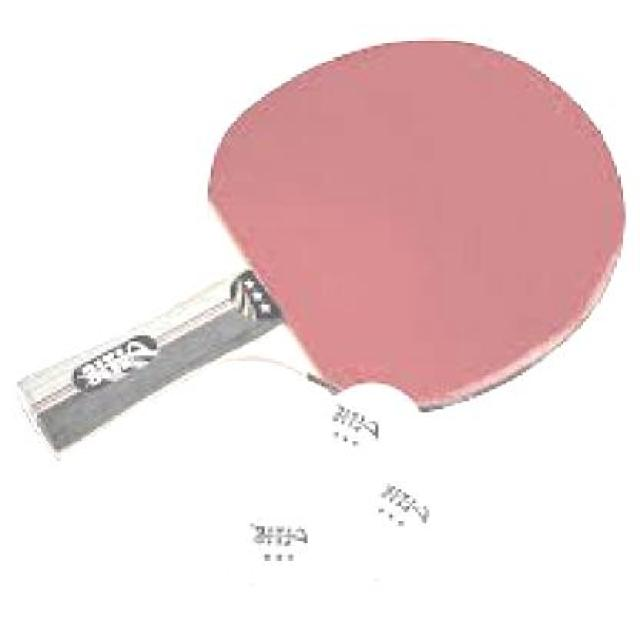table_tennis_racket: (187, 35, 632, 419)
